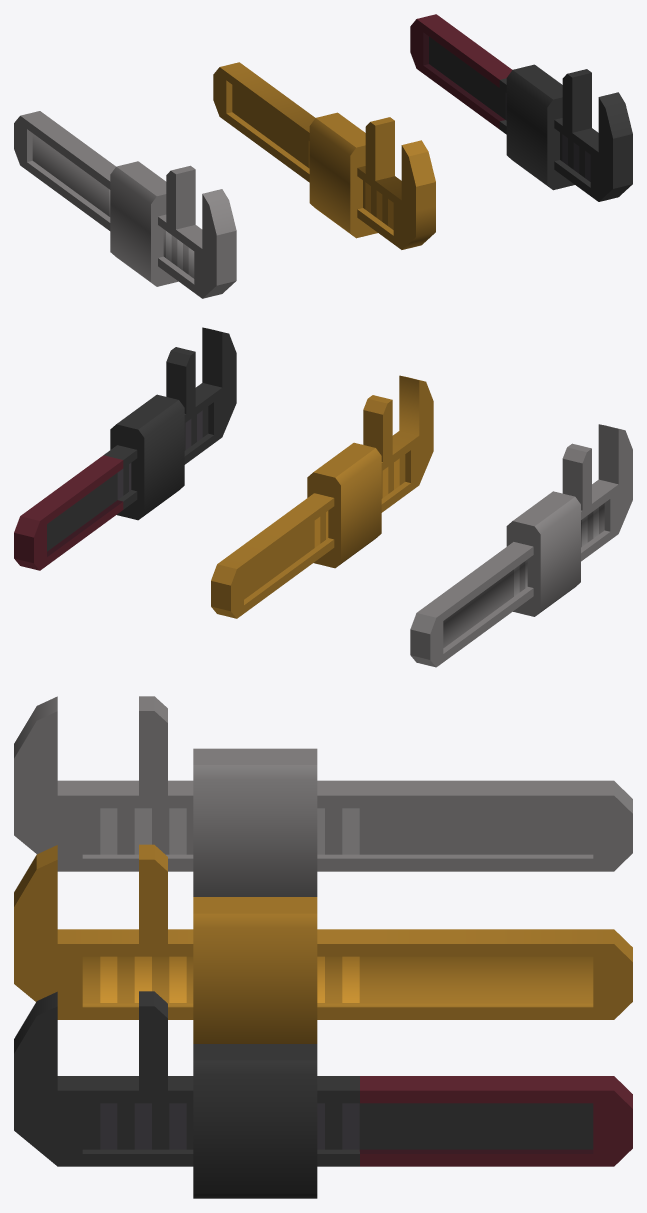
File: wrenches.glb
3 renders of one model, top to bottom at view 1: azimuth 30°, elevation 25°; view 2: azimuth 150°, elevation 25°; view 3: azimuth 270°, elevation 25°, orthographic. The views are drawn at different scales.
Visible parts, largest first — view 1: Wrench, WrenchSyndicate, WrenchBrass; view 2: Wrench, WrenchSyndicate, WrenchBrass; view 3: WrenchSyndicate, Wrench, WrenchBrass.
Part boxes in pixels (x1,y1,x2,y2): Wrench: [14, 111, 236, 298]; WrenchSyndicate: [410, 14, 632, 201]; WrenchBrass: [213, 62, 435, 249]; Wrench: [410, 424, 632, 667]; WrenchSyndicate: [14, 327, 236, 570]; WrenchBrass: [211, 375, 433, 618]; WrenchSyndicate: [14, 991, 632, 1198]; Wrench: [14, 696, 632, 896]; WrenchBrass: [14, 844, 632, 1043].
Size of the model in its own units: 0.6656 by 0.1856 by 0.5434.
1 material, 1 textured.
